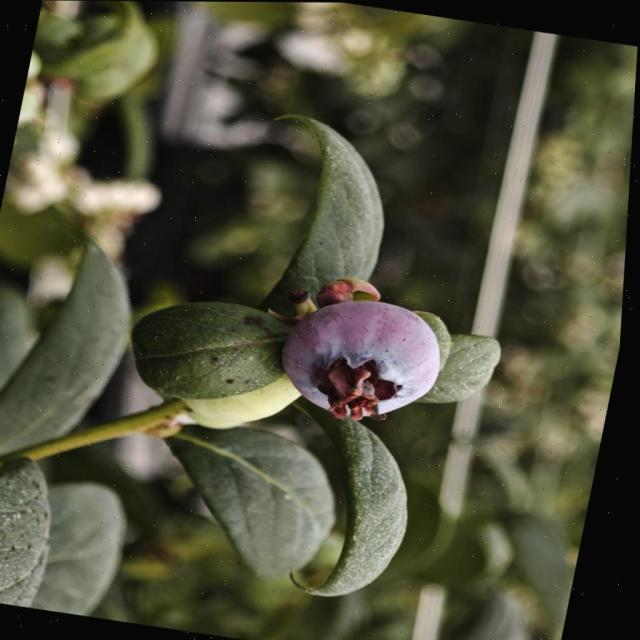Semi-RipeBlueBerry: (273, 288, 458, 433)
